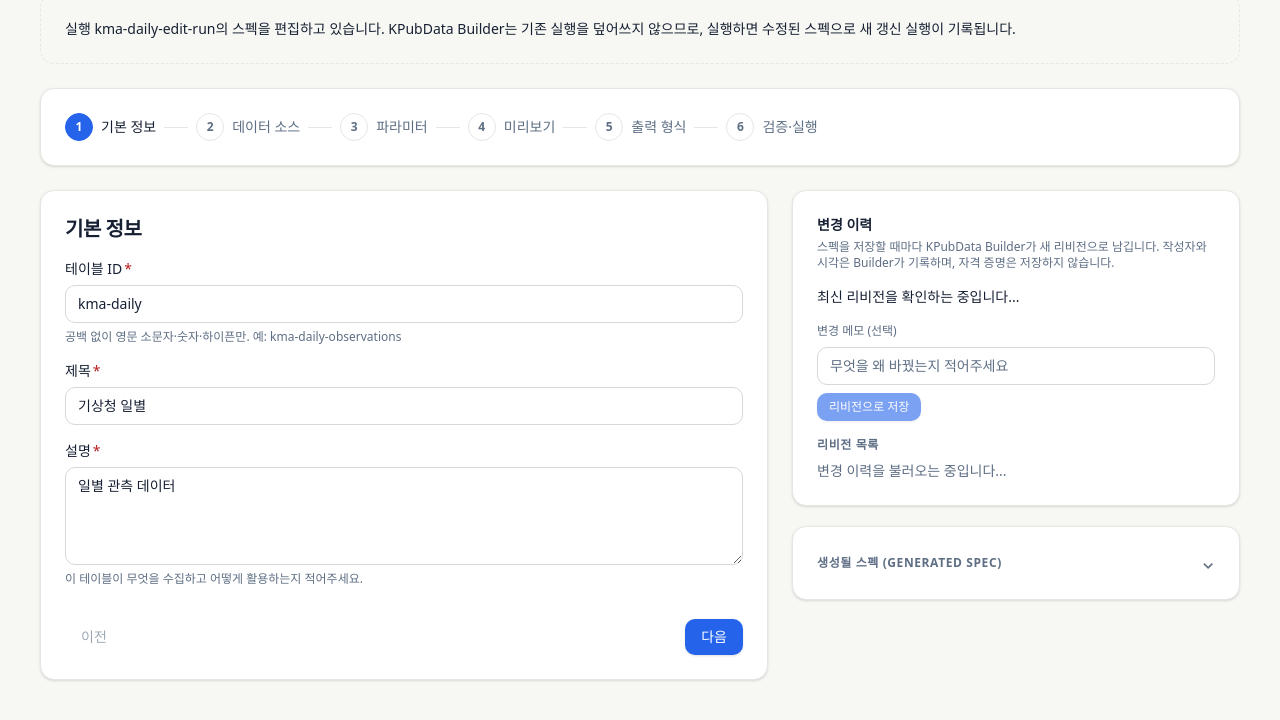
Spec edit wizard › shows the saved provider and dataset when the catalog arrives after the selects mount
This screenshot has width=1280, height=720.
(page scrolled)
expect the heading "기본 정보" is shown: met, box [65,215,141,242]
Click the button "다음".
click(714, 637)  # box [685,619,743,655]
(page scrolled)
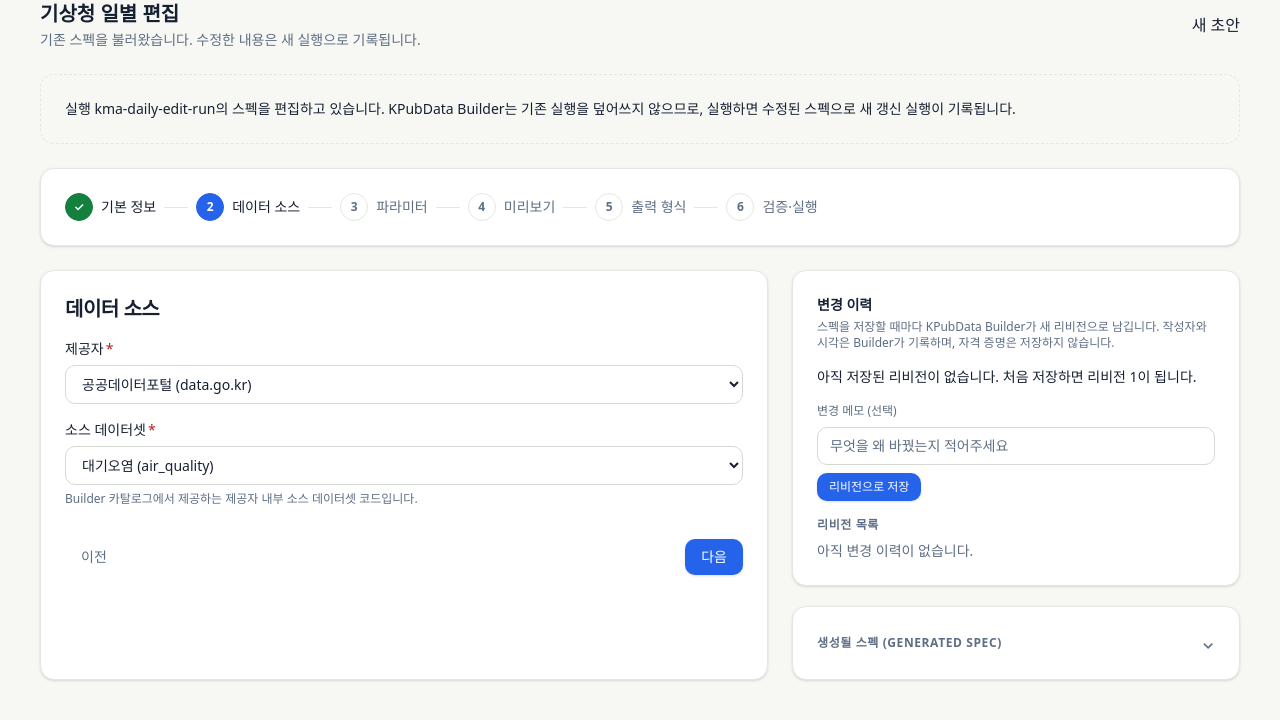
expect the heading "데이터 소스" is shown: met, box [65,295,159,322]
expect the dropdown labelled "소스 데이터셋*" shows "대기오염 (air_quality)": met, box [65,446,743,485]
expect the dropdown labelled "제공자*" shows "공공데이터포털 (data.go.kr)": met, box [65,365,743,404]
